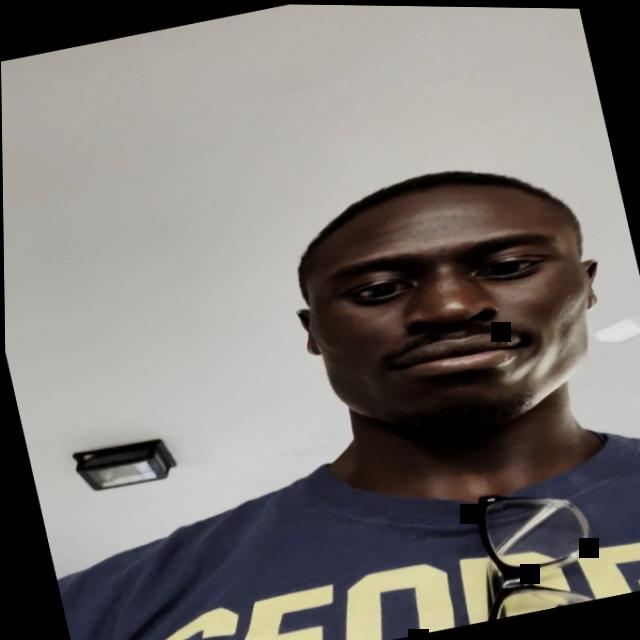NO-Mask: (270, 151, 632, 476)
